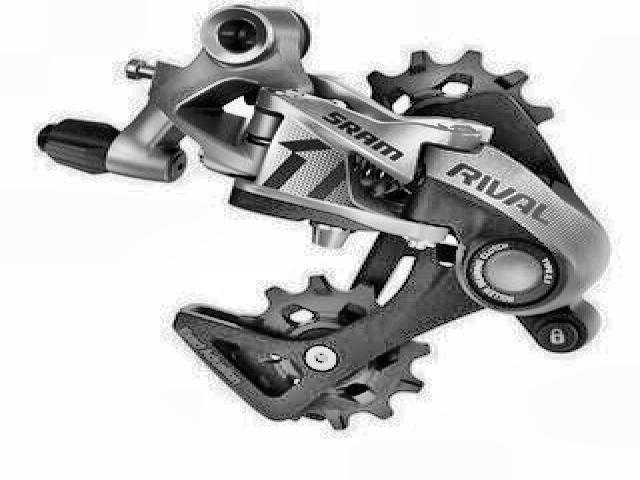rear_derailleur: (31, 1, 605, 436)
